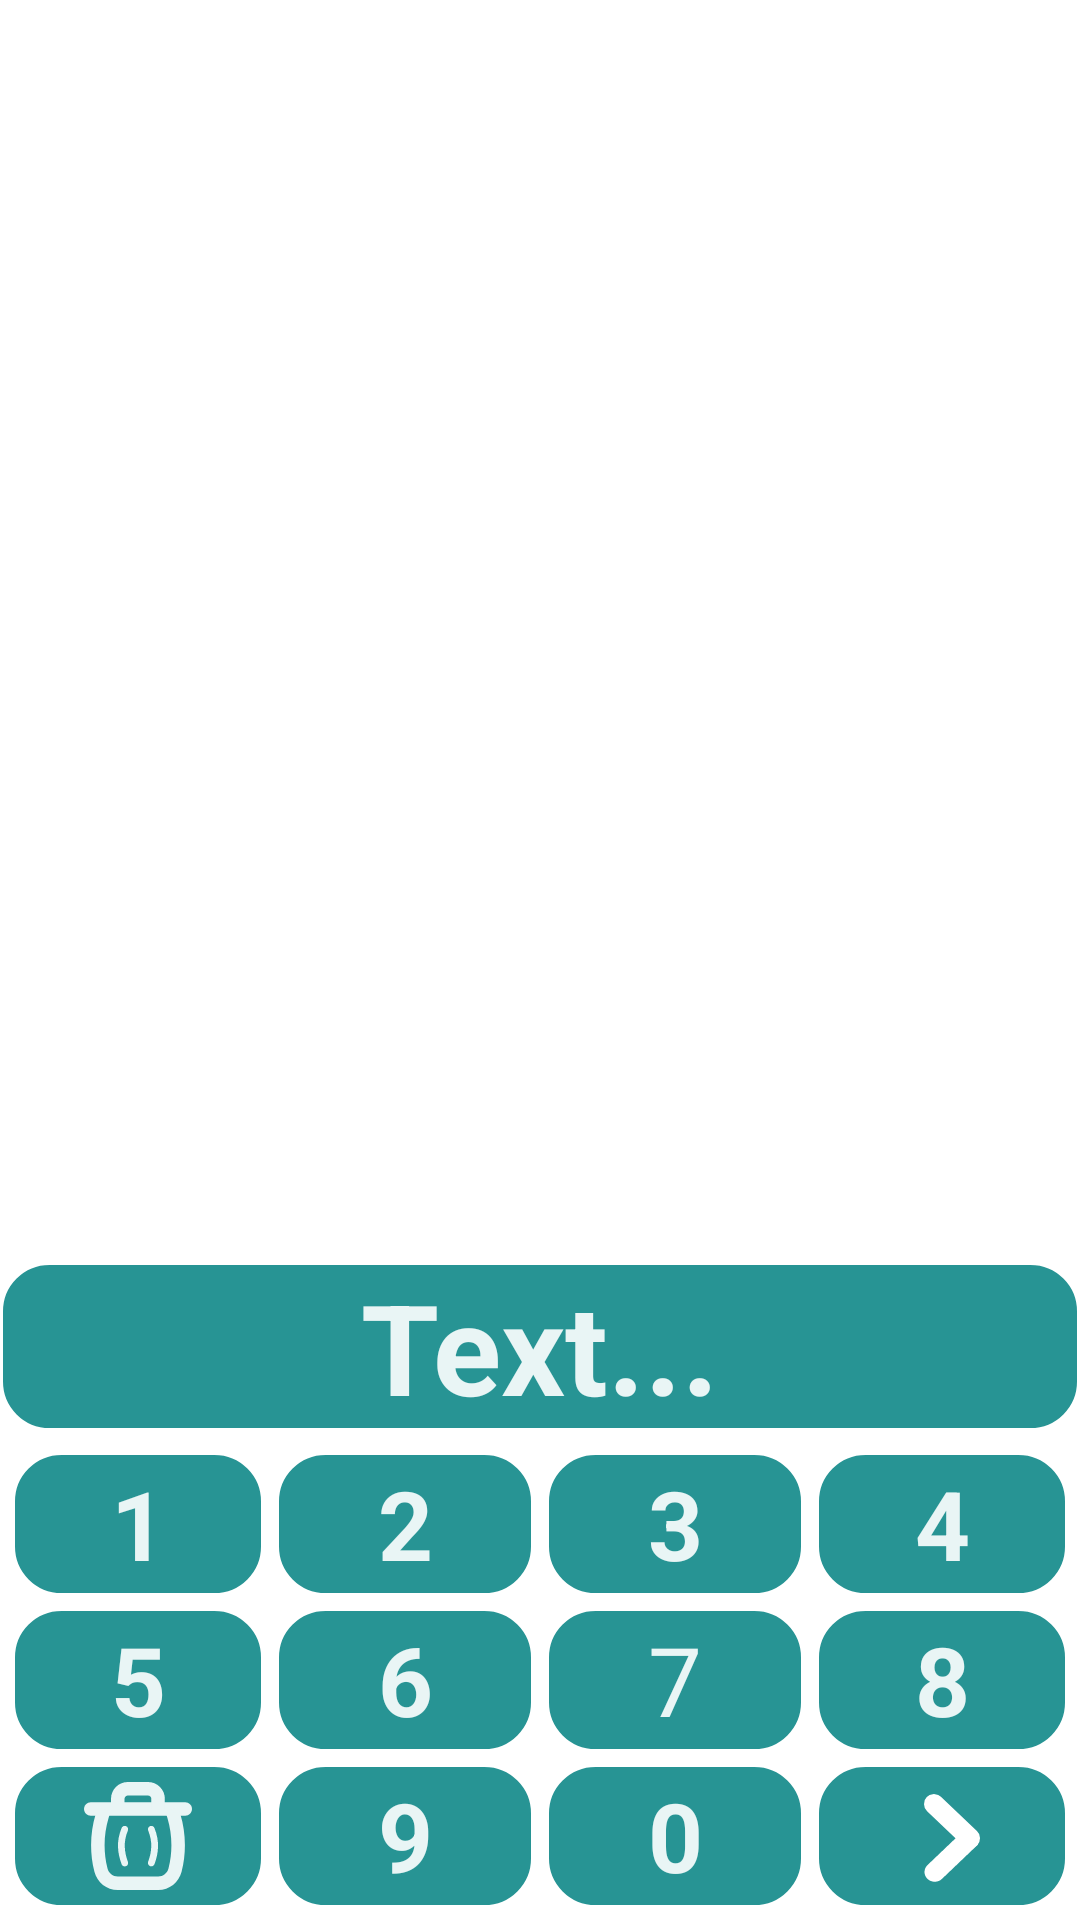

Where to tap for icons on this 1080×1920 app screen, as [x,y]:
trash: [138,1836]
